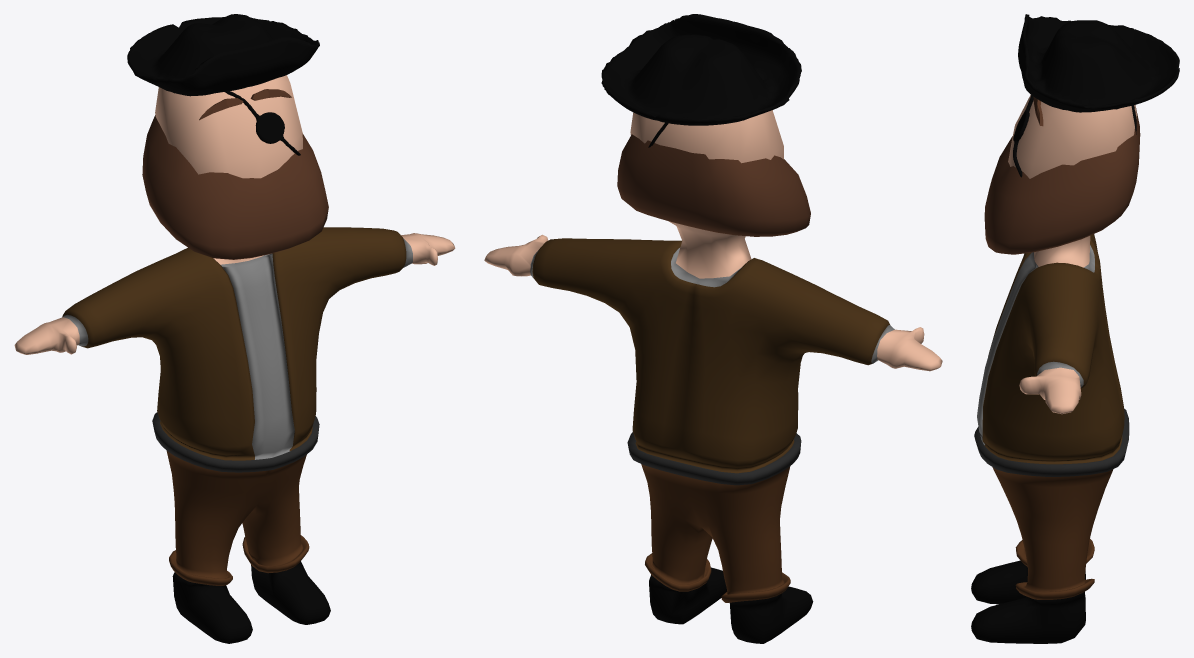
Rendered from Pirate-grub.fbx.
The picture shows the model from 3 angles, left to right: view 1: azimuth 30°, elevation 25°; view 2: azimuth 150°, elevation 25°; view 3: azimuth 270°, elevation 25°; orthographic projection. The views are drawn at different scales.
Visible parts, largest first — view 1: Cube; view 2: Cube; view 3: Cube.
Boxes of the visible parts, box(x1,y1,x2,y2) form: Cube: box(14, 14, 455, 643); Cube: box(484, 14, 942, 643); Cube: box(971, 14, 1179, 643).
Size of the model in its own units: 136 by 171 by 55.
